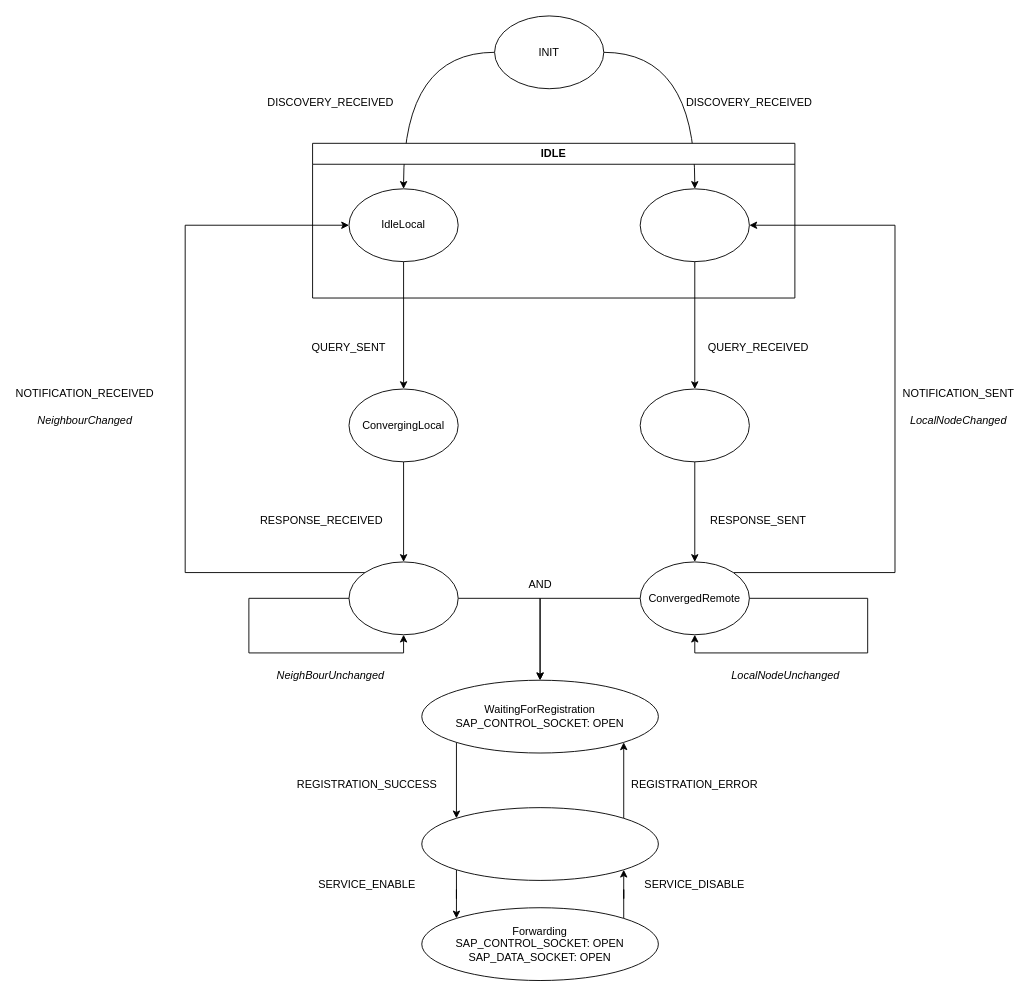
Image size: 1029x996. Some labels were removed from this diagram. The shapes that lost their labels are listed below. From the top down, each one's box as (x1, y1, x2, y2) in pixels, then its label:
(639, 188, 749, 262): IdleRemote
(639, 388, 749, 462): ConvergingRemote
(348, 561, 458, 635): ConvergedLocal
(421, 807, 658, 880): Registered SAP_DATA_SOCKET: OPEN
